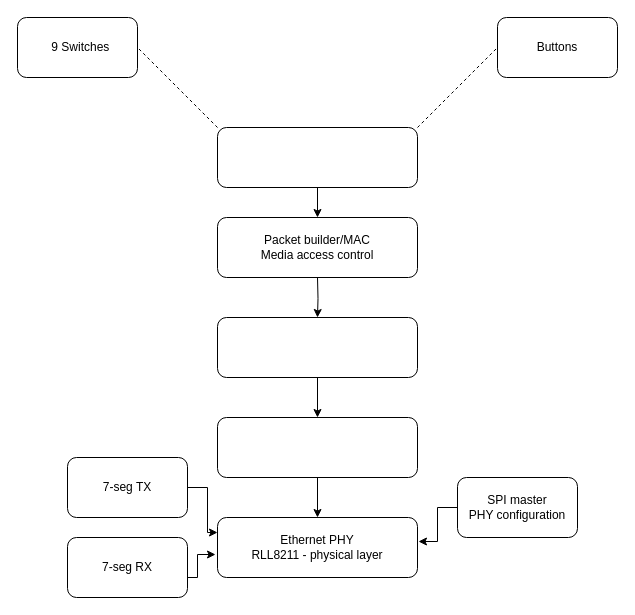
This 635x615 diagram has some shape labels left out. Each missing label, with the centre of its shape:
"FIFO Buffer - clock domain decoupling" belongs at (317,347).
"FSM Finite state machine" belongs at (317,157).
"PHY interface MII - drives Ethernet PHY" belongs at (317,447).
